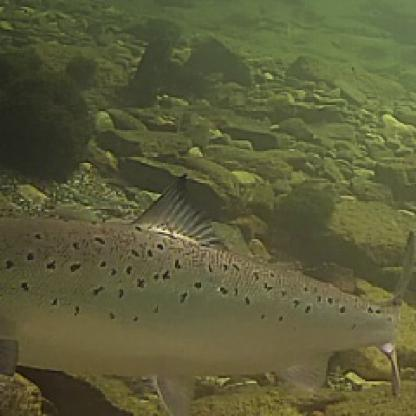salmon: (0, 168, 414, 414)
